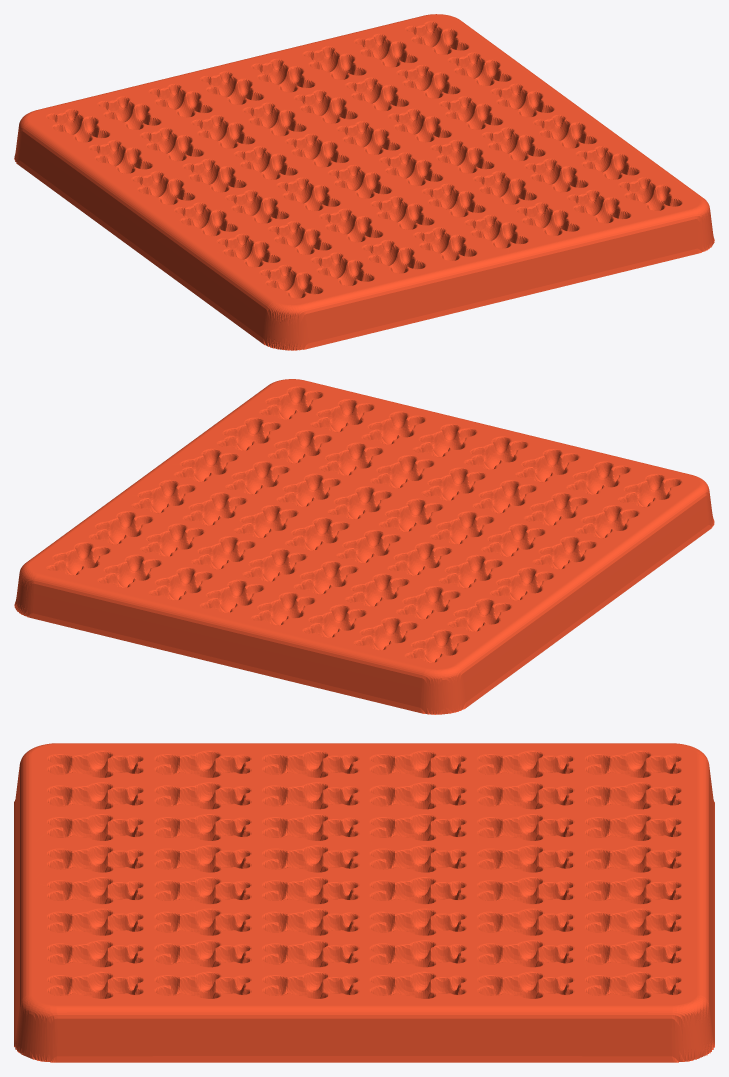
Rendered from mold.glb.
3 renders of one model, top to bottom at view 1: azimuth 30°, elevation 25°; view 2: azimuth 150°, elevation 25°; view 3: azimuth 270°, elevation 25°, orthographic. The views are drawn at different scales.
Parts seen in each view (by area): view 1: geometry_0; view 2: geometry_0; view 3: geometry_0.
Boxes of the visible parts, left/top/right/bottom form: geometry_0: left=14, top=14, right=714, bottom=350; geometry_0: left=14, top=379, right=714, bottom=714; geometry_0: left=14, top=743, right=714, bottom=1062.
Size of the model in its own units: 0.1345 by 0.0113 by 0.1443.
